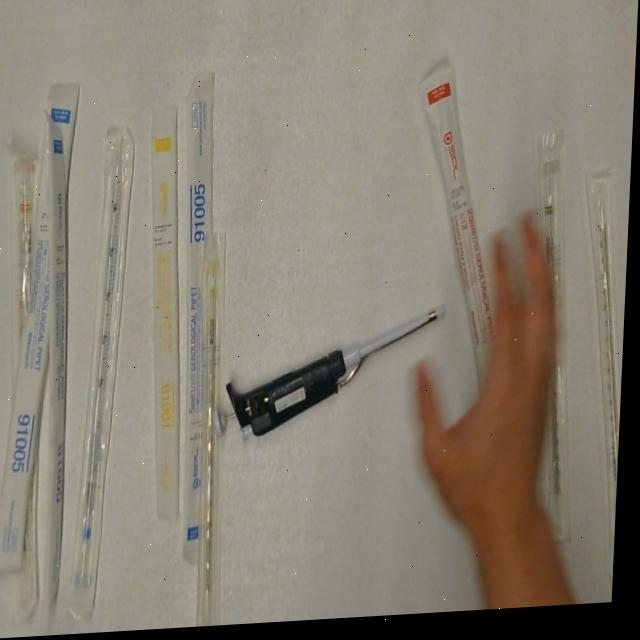Serelogical Pipet 1 mL - Sealed: (134, 106, 201, 529), (190, 230, 242, 630)
Serelogical Pipet 10 mL - Sealed: (3, 144, 45, 393)
Serelogical Pipet 2 mL - Sealed: (523, 130, 597, 556)
Serelogical Pipet 25 mL - Sealed: (408, 64, 519, 428)
Serelogical Pipet 5 mL - Sealed: (0, 77, 83, 581), (70, 122, 145, 623), (168, 66, 238, 573), (27, 104, 86, 616)
Single Channel Pipettor: (212, 306, 455, 453)
